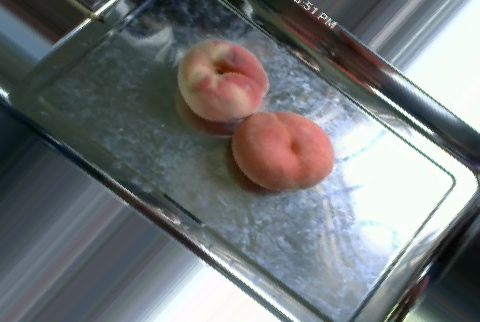Peach: (231, 109, 335, 191), (177, 38, 268, 124)
